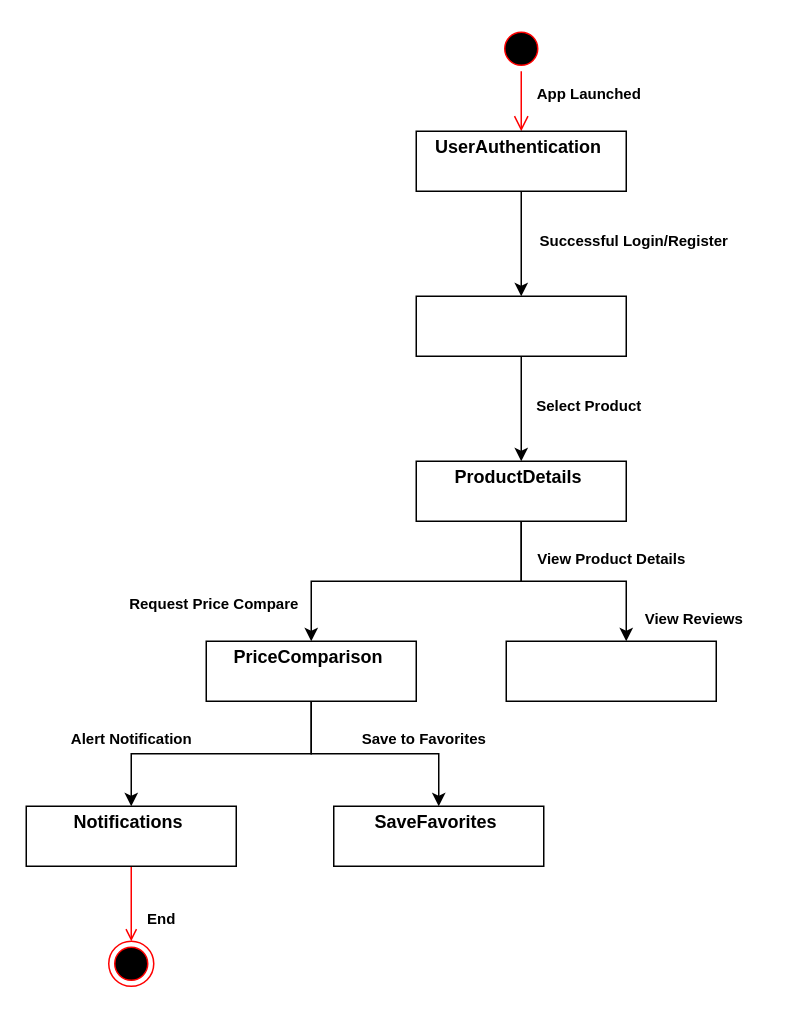
This 788x1013 diagram has some shape labels left out. The shapes that lost their labels are listed below. From the top down, each one's centre as x and y in pixels, then its label:
At (520,325): "ProductSearch".
At (610,670): "ProductReviews".
